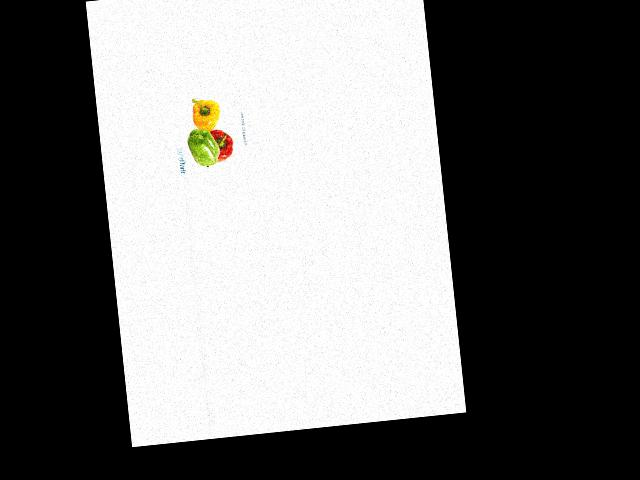bell_pepper: (182, 124, 220, 170)
